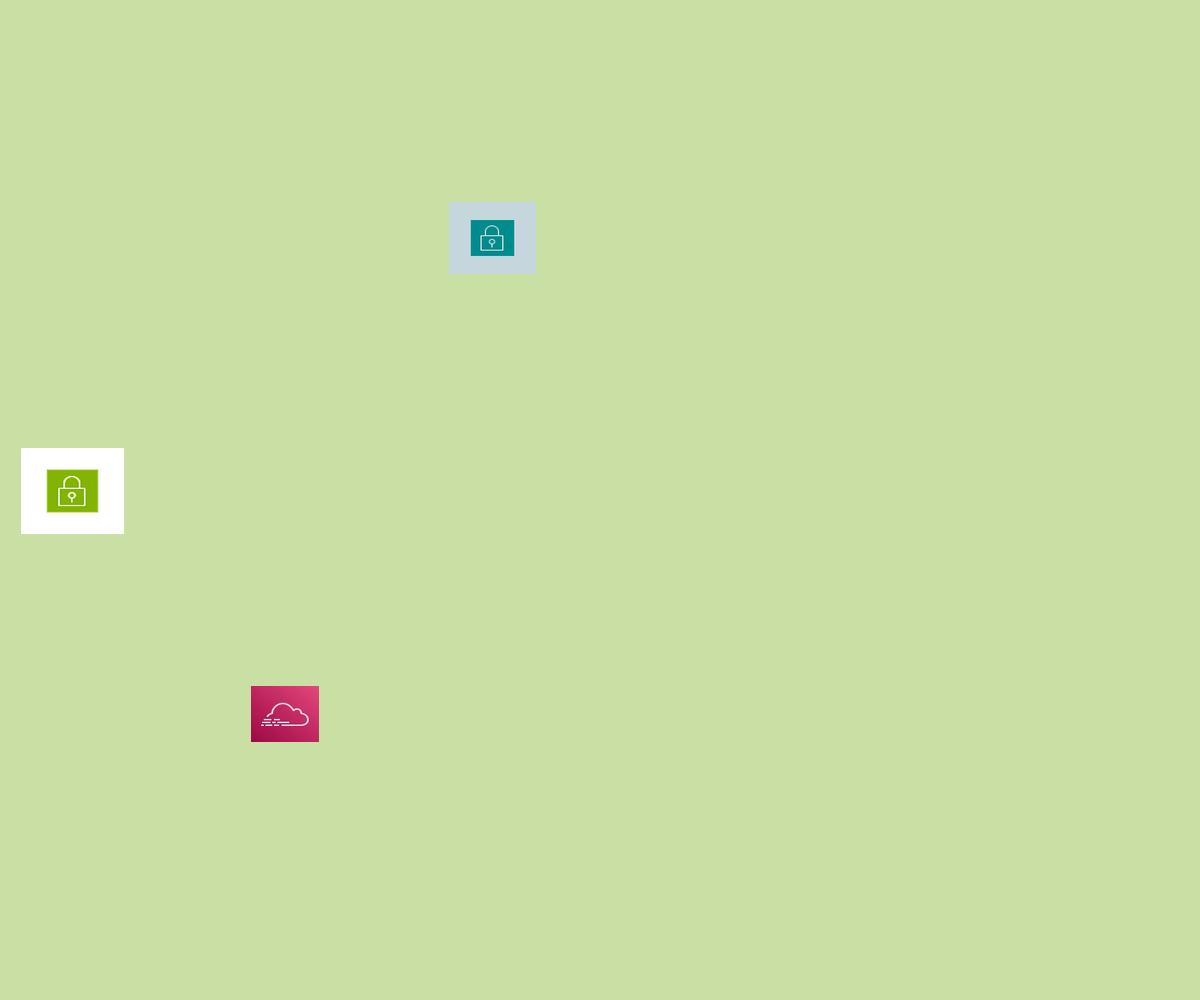AWS-CloudTrail: (251, 686, 319, 742)
AWS-Private-subnet: (449, 202, 536, 274)
AWS-Public-subnet: (21, 448, 124, 534)
